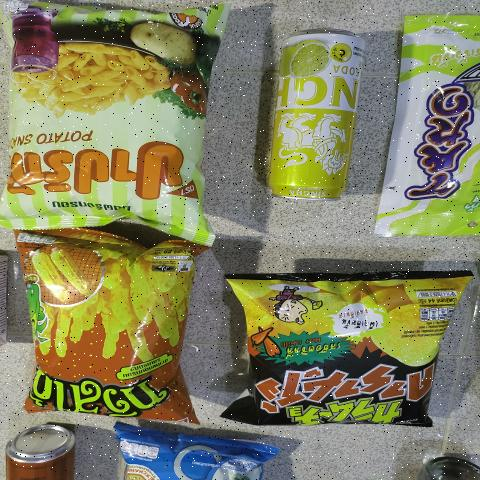karamujo: (230, 276, 444, 426)
paprika: (0, 0, 203, 234)
singha_yellow: (262, 24, 359, 200)
twisco: (28, 235, 178, 420)
